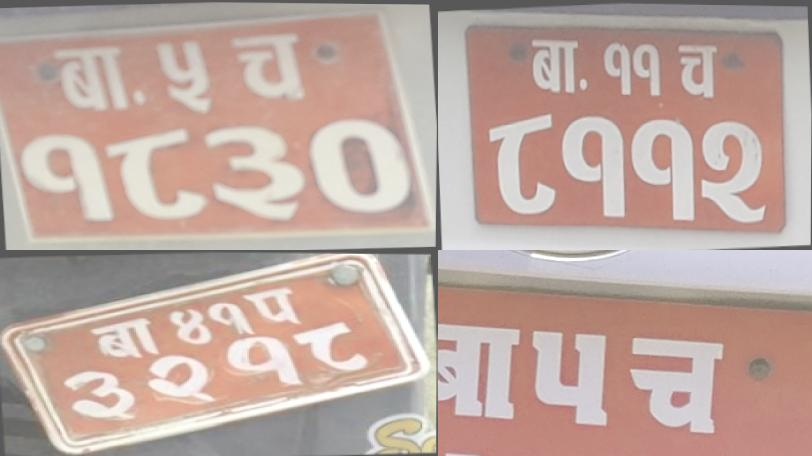0: (303, 109, 420, 220), (529, 36, 578, 95)
1: (11, 125, 117, 229), (698, 118, 770, 228), (224, 333, 302, 387), (210, 299, 252, 334)
2: (147, 353, 215, 400)
3: (198, 119, 311, 224), (559, 112, 628, 221), (630, 116, 699, 224), (61, 368, 138, 421), (630, 40, 664, 98), (602, 41, 632, 95)
4: (170, 308, 214, 343)
5: (523, 315, 620, 440), (148, 36, 220, 120)
8: (103, 123, 207, 223), (291, 321, 366, 369)
9: (675, 38, 719, 100)
ba: (438, 306, 529, 427), (44, 41, 143, 123), (88, 315, 165, 360)
cha: (621, 317, 734, 447), (223, 29, 315, 107)
pa: (486, 111, 560, 219), (242, 284, 306, 325)
